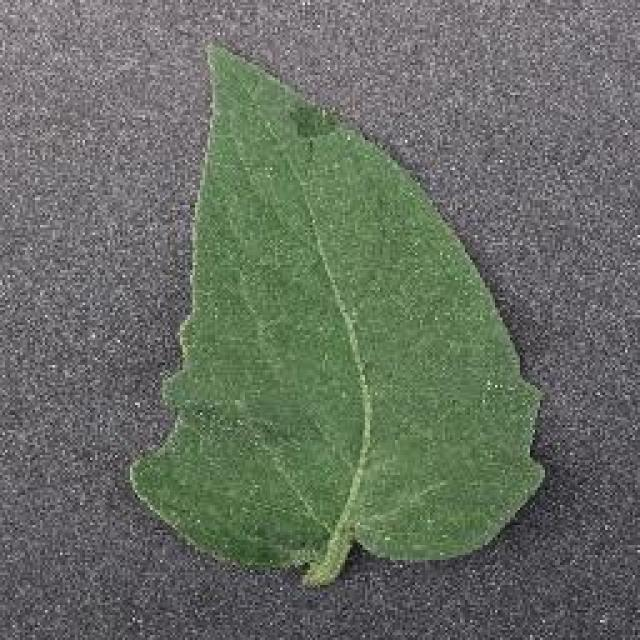healthy: (125, 41, 556, 583)
